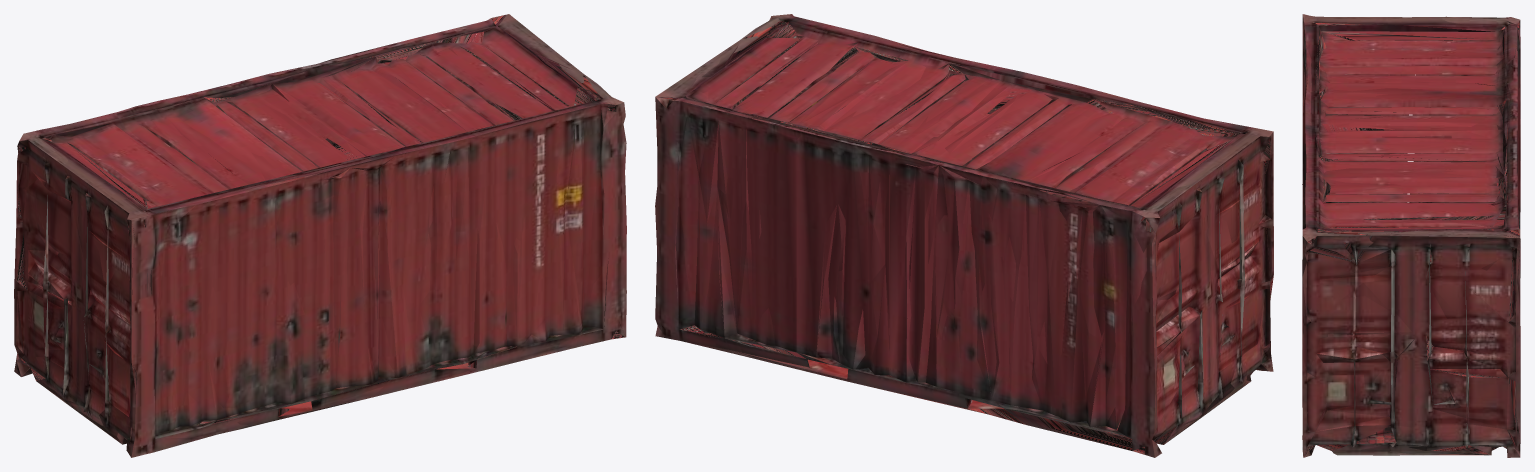
File: cargo_container_rusty_red.glb
3 renders of one model, left to right at view 1: azimuth 30°, elevation 25°; view 2: azimuth 150°, elevation 25°; view 3: azimuth 270°, elevation 25°, orthographic. The views are drawn at different scales.
Parts seen in each view (by area): view 1: mesh_lod, turn; view 2: mesh_lod, turn; view 3: mesh_lod, turn.
Boxes of the visible parts, box(x1,y1,x2,y2) form: mesh_lod: box(16, 14, 626, 455); turn: box(14, 14, 626, 457); mesh_lod: box(655, 16, 1273, 457); turn: box(655, 14, 1273, 457); mesh_lod: box(1302, 15, 1520, 457); turn: box(1302, 14, 1520, 457).
Bounding box in the file's own units: 5.66 × 2.6 × 2.33.
Materials: 1 (1 with a texture image).
